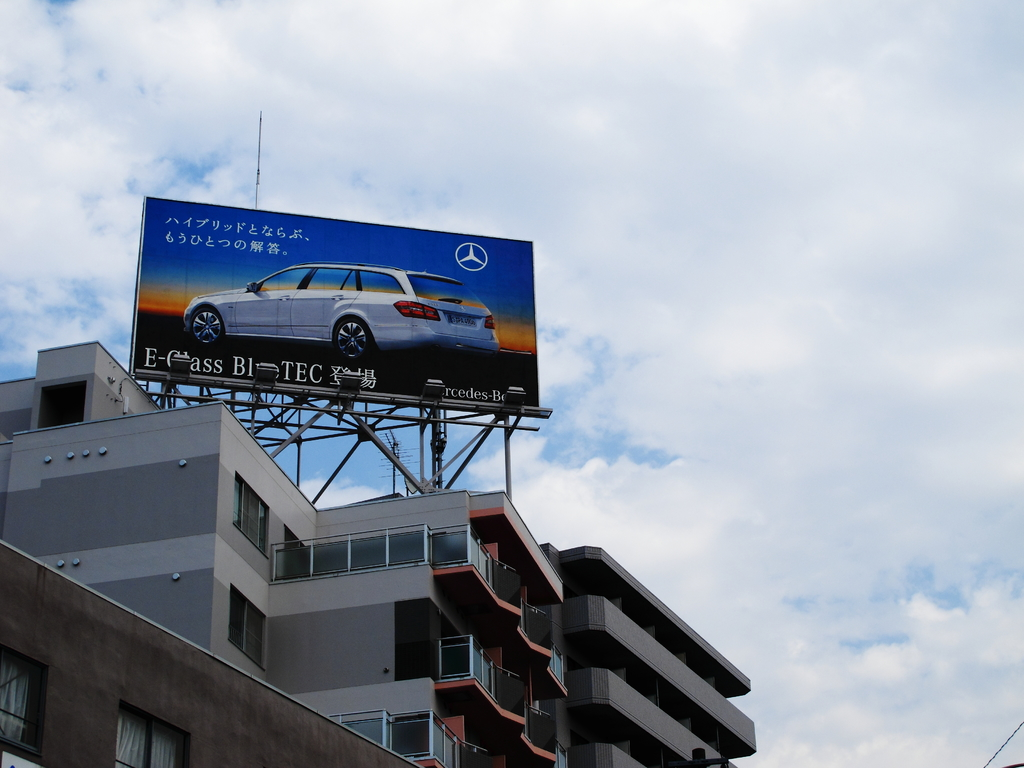Car: (183, 263, 496, 362)
